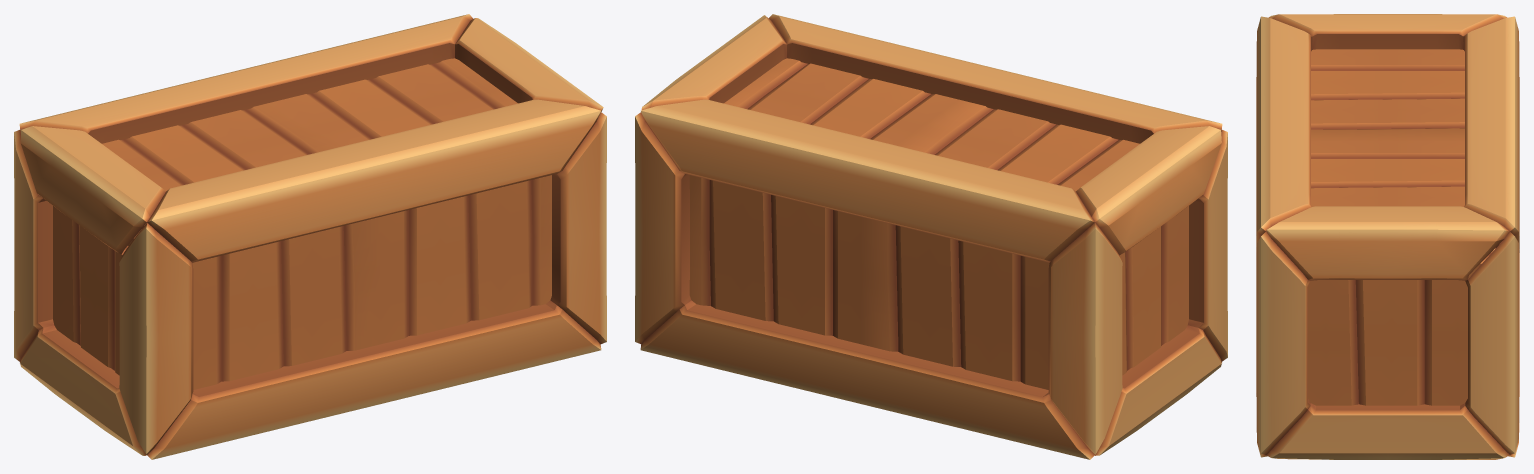
The model's file is Wood_Box_2.fbx.
3 renders of one model, left to right at view 1: azimuth 30°, elevation 25°; view 2: azimuth 150°, elevation 25°; view 3: azimuth 270°, elevation 25°, orthographic. The views are drawn at different scales.
Visible parts, largest first — view 1: mdl_Median_Box_1x1_01_1_5_5_4; view 2: mdl_Median_Box_1x1_01_1_5_5_4; view 3: mdl_Median_Box_1x1_01_1_5_5_4.
Boxes of the visible parts, x1,y1,x2,y2 form: mdl_Median_Box_1x1_01_1_5_5_4: [14, 14, 606, 459]; mdl_Median_Box_1x1_01_1_5_5_4: [635, 14, 1227, 459]; mdl_Median_Box_1x1_01_1_5_5_4: [1256, 14, 1519, 459].
Size of the model in its own units: 198 by 100 by 100.
1 material, 1 textured.
